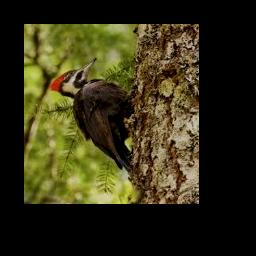Woodpecker: (50, 57, 135, 172)
